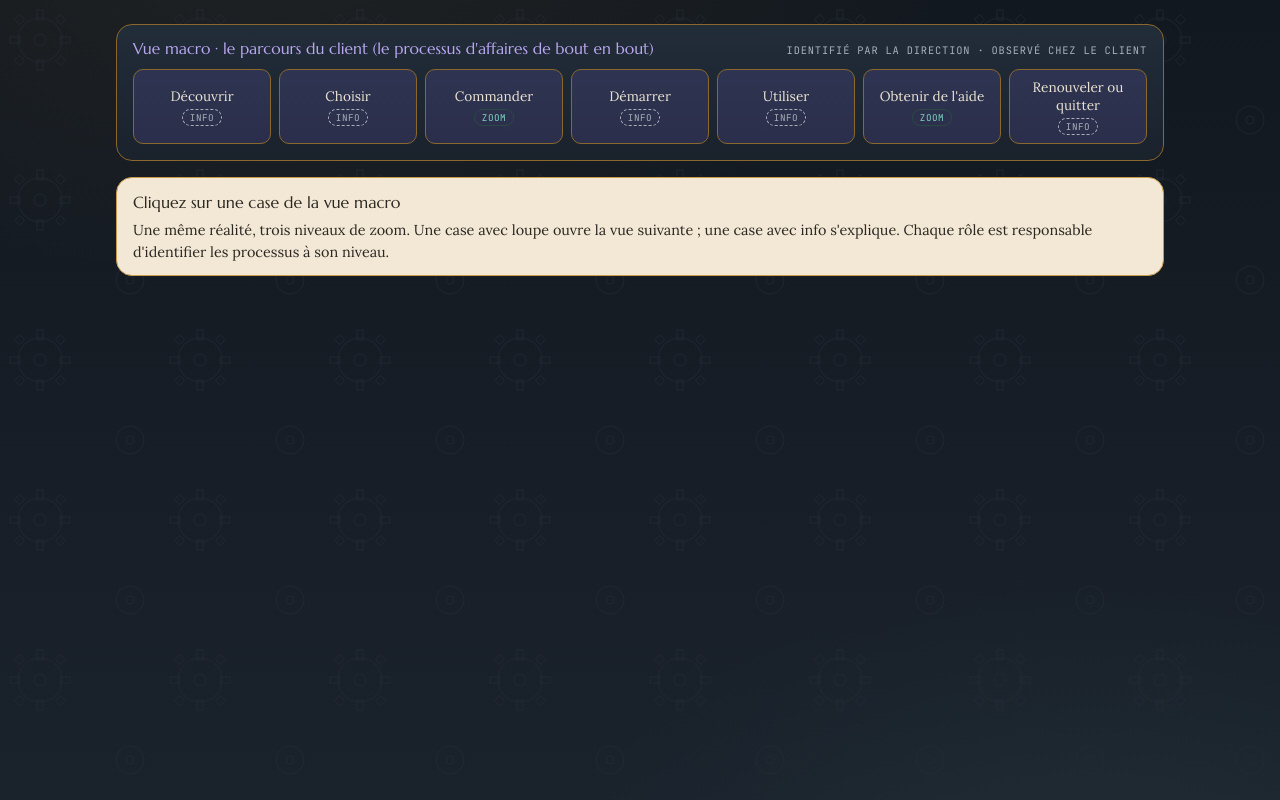
Test: ZoomMap › la touche Échap remonte d'un niveau à la fois
The image size is (1280, 800).
Step 1. Click the button "Obtenir de l'aide zoom" → (932, 107), box [863, 69, 1001, 144]
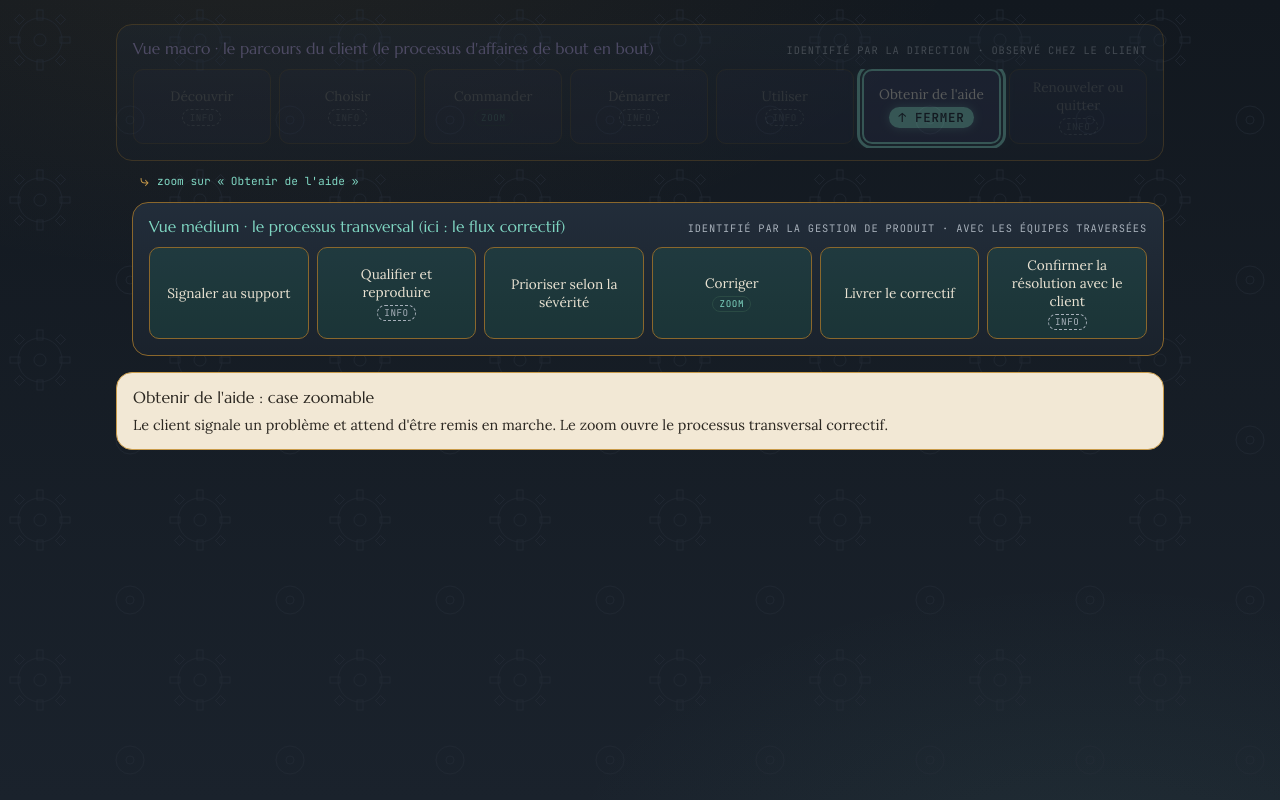
Expected: the text "flux correctif" is shown, [149, 217, 565, 236]
Step 2. Click the button "Corriger zoom" → (732, 293), box [652, 247, 812, 340]
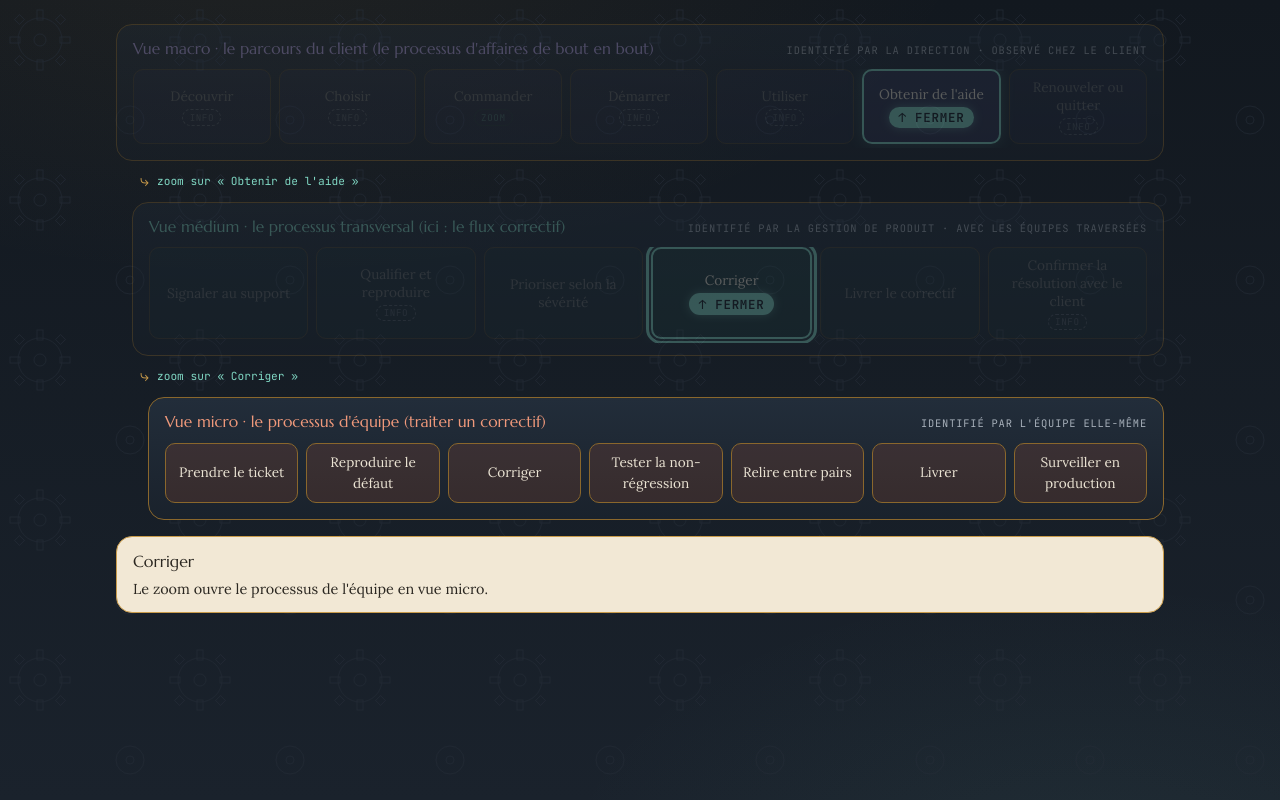
Expected: the element "Vue micro" is shown, [148, 397, 1164, 520]
Step 3. Press Escape
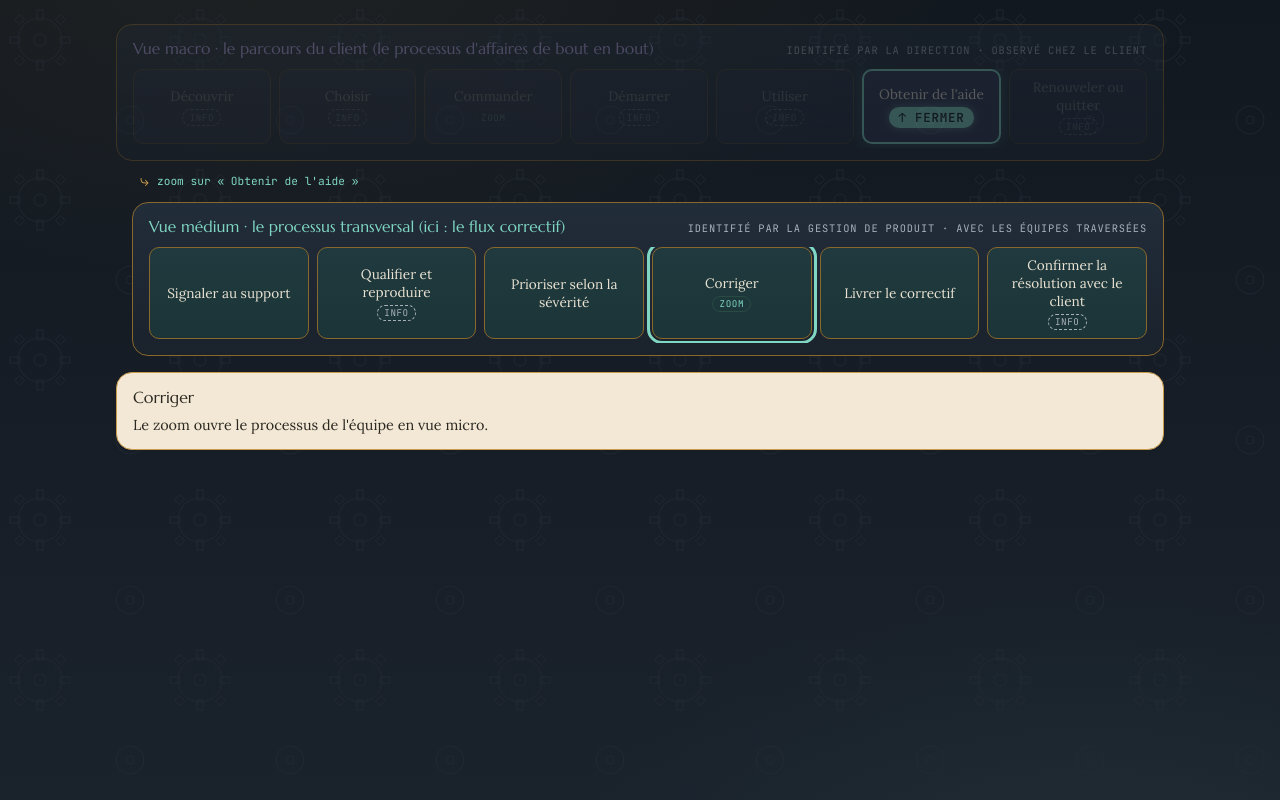
Expected: the element "Vue médium" is shown, [132, 202, 1164, 356]
Step 4. Press Escape
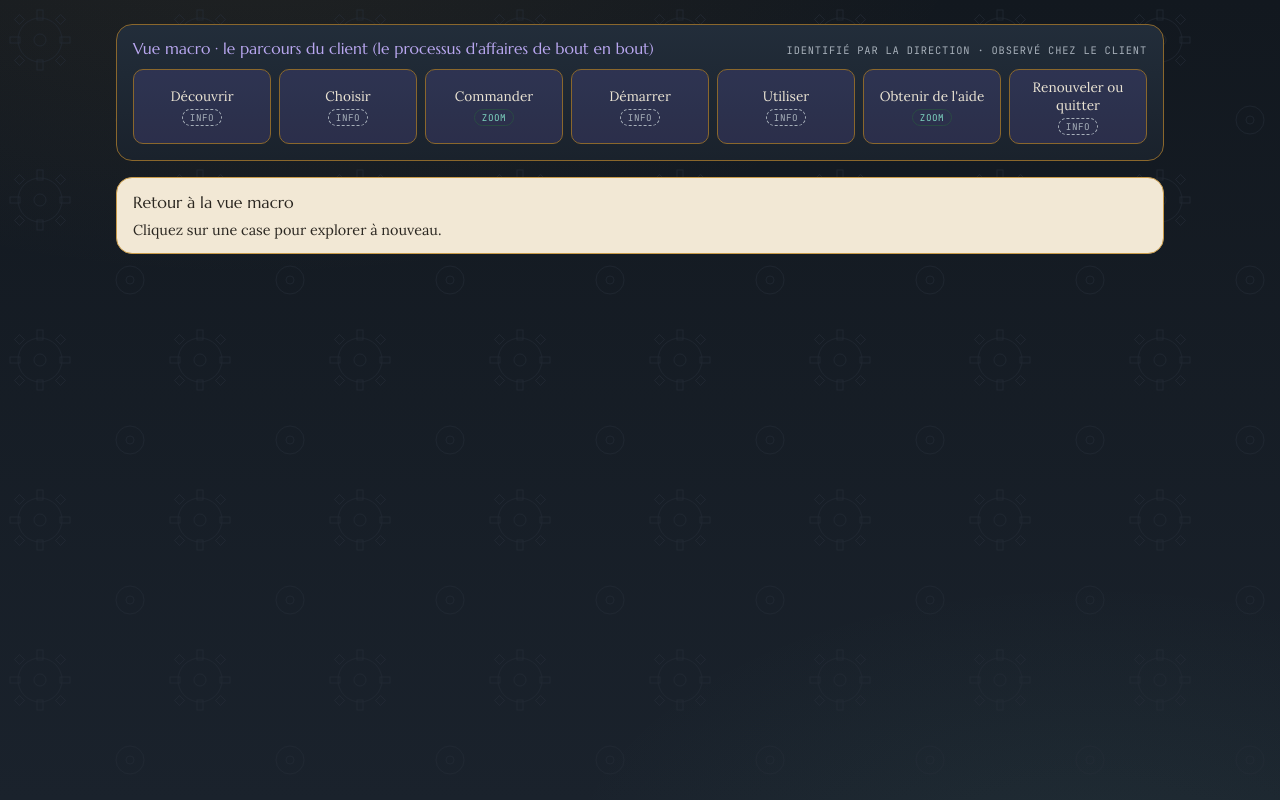
Expected: the text "Vue médium" is gone
